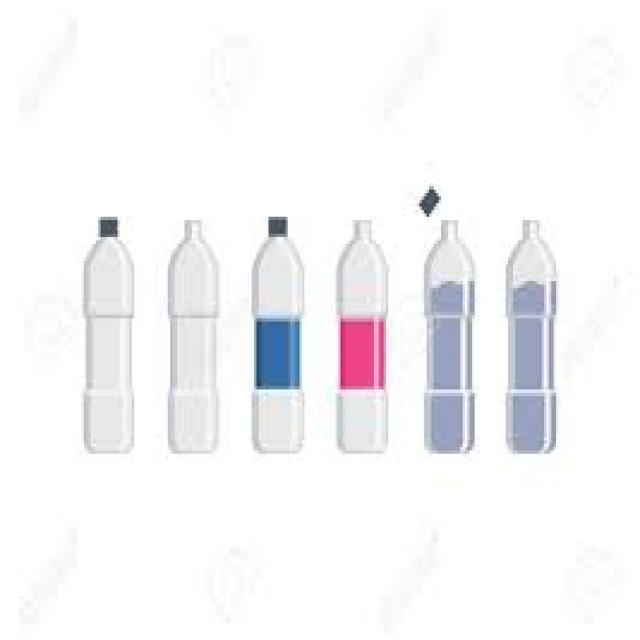Plastic: (164, 218, 222, 456), (248, 215, 305, 456), (422, 217, 476, 452), (334, 220, 387, 456), (83, 216, 135, 456), (504, 216, 556, 452)
